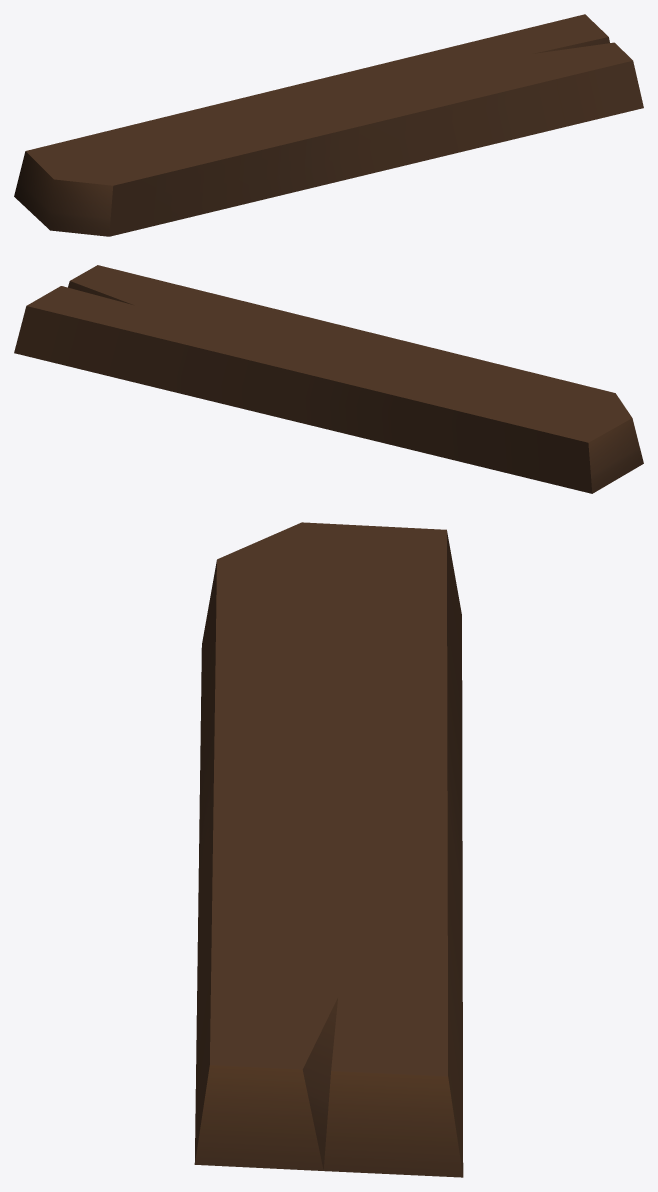
Rendered from Wooden_Plank_1C.fbx.
3 views of the same model, one above another, from view 1: azimuth 30°, elevation 25°; view 2: azimuth 150°, elevation 25°; view 3: azimuth 270°, elevation 25° (orthographic). The views are drawn at different scales.
Parts seen in each view (by area): view 1: Wooden_Plank_1C; view 2: Wooden_Plank_1C; view 3: Wooden_Plank_1C.
Boxes of the visible parts, left/top/right/bottom form: Wooden_Plank_1C: left=14, top=14, right=643, bottom=236; Wooden_Plank_1C: left=14, top=265, right=643, bottom=493; Wooden_Plank_1C: left=194, top=522, right=463, bottom=1177.
Bounding box in the file's own units: 197 × 15 × 39.31.
